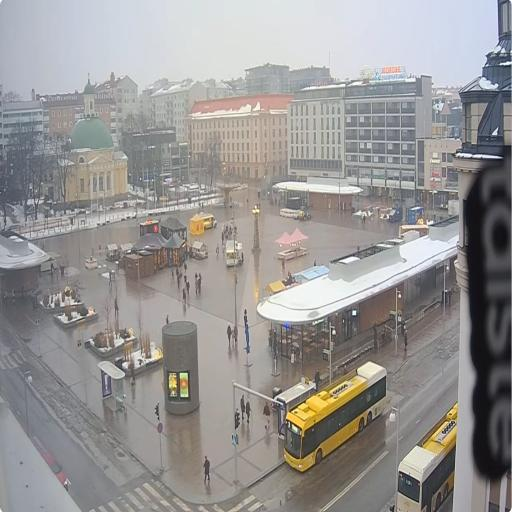Bus: (284, 360, 388, 472), (397, 402, 458, 511)
